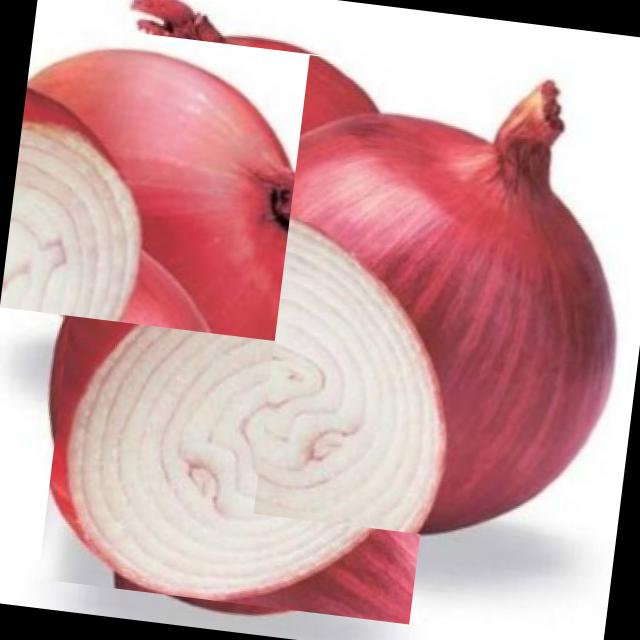Onion: (253, 54, 640, 555), (30, 183, 464, 618), (0, 2, 341, 361)
